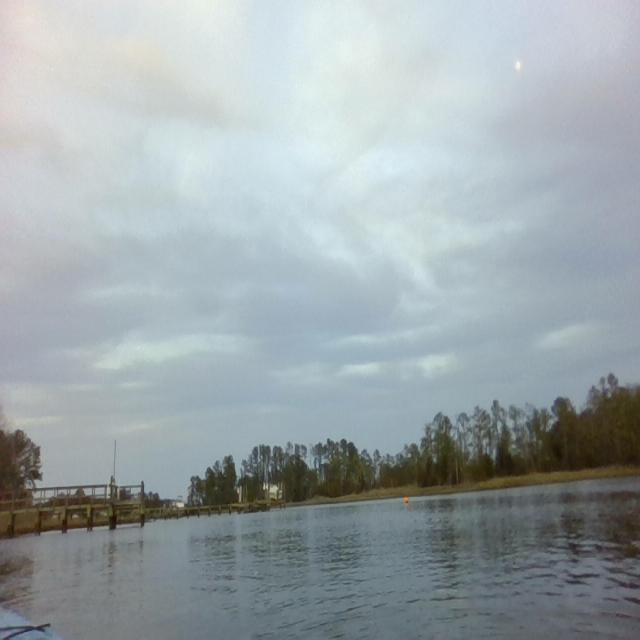Buoy: (403, 494, 410, 506)
